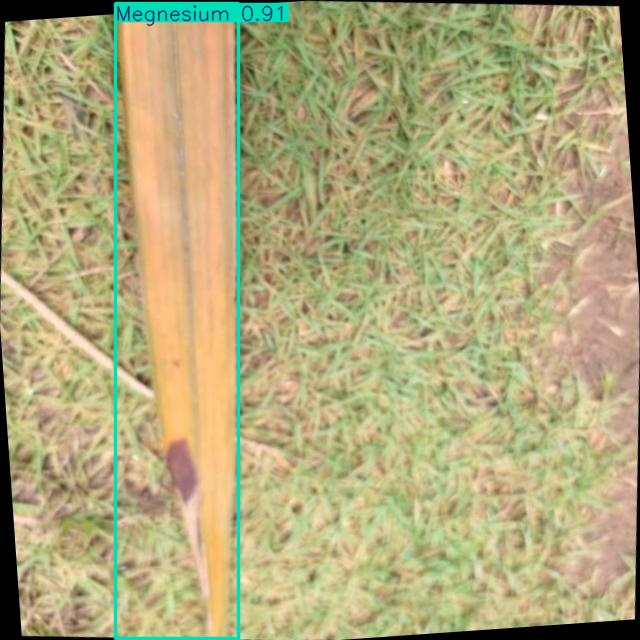Megnesium: (115, 3, 239, 638)
